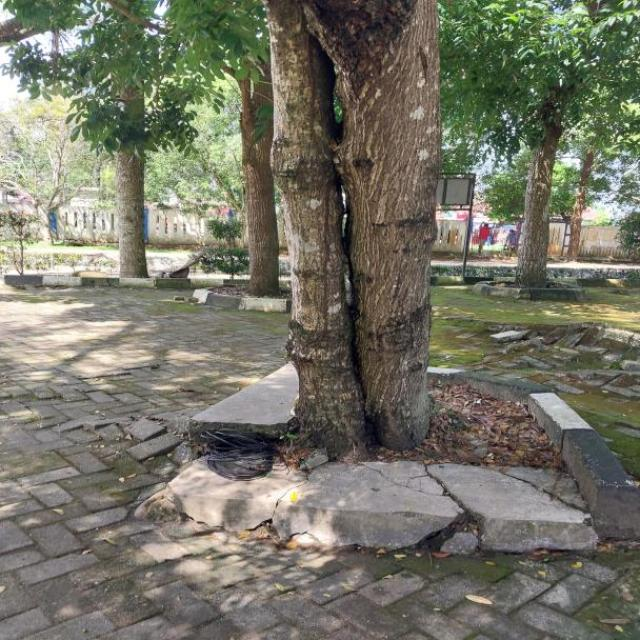tree ahead at: (257, 0, 464, 451)
